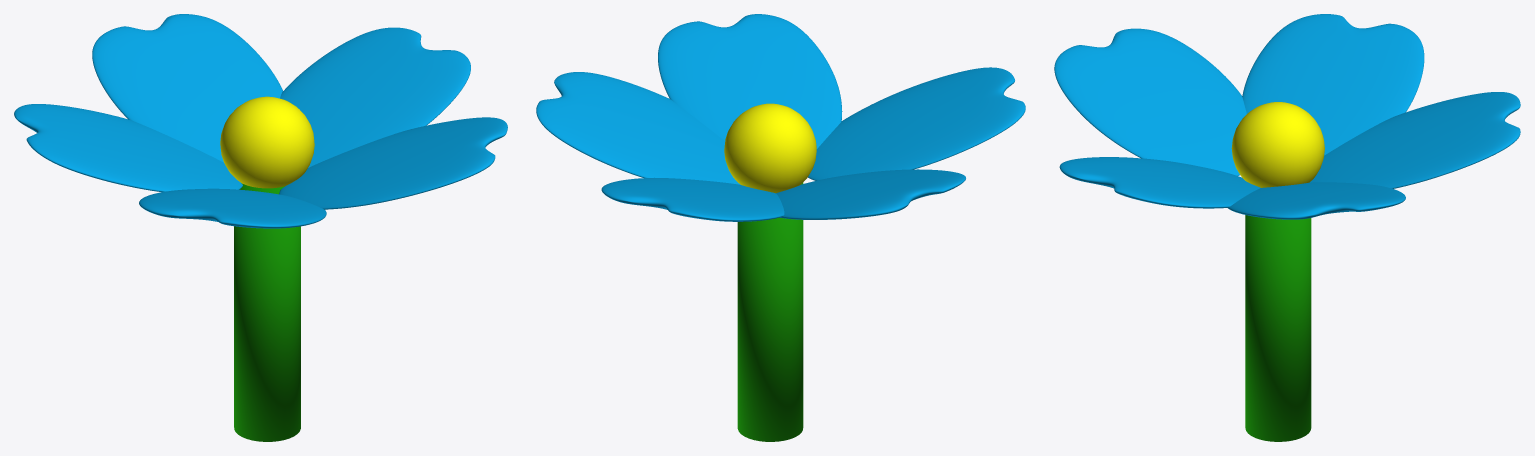
File: BlueFlower.fbx
3 views of the same model, side by side, from view 1: azimuth 30°, elevation 25°; view 2: azimuth 150°, elevation 25°; view 3: azimuth 270°, elevation 25° (orthographic). The views are drawn at different scales.
Parts seen in each view (by area): view 1: BlueFlower; view 2: BlueFlower; view 3: BlueFlower.
Part boxes in pixels (bbox=[...]): BlueFlower: bbox=[14, 14, 507, 441]; BlueFlower: bbox=[536, 14, 1025, 441]; BlueFlower: bbox=[1054, 14, 1520, 441].
Size of the model in its own units: 46.73 by 34.7 by 45.56.
